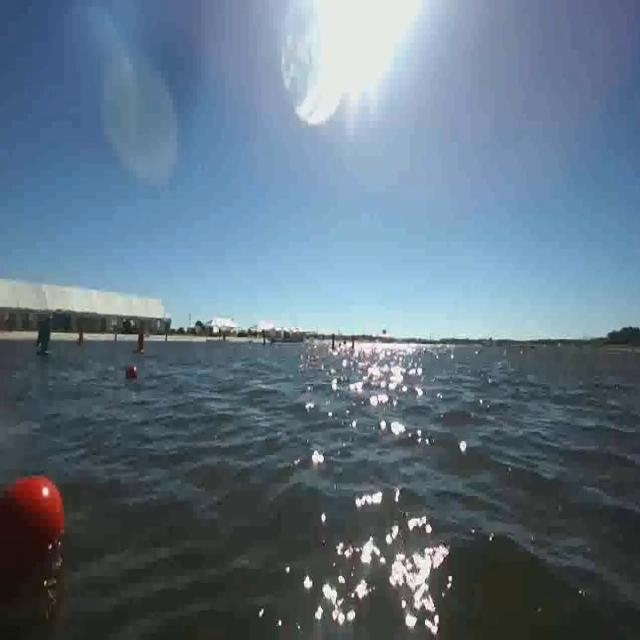green-column-buoy: (36, 325, 52, 356)
red-buoy: (1, 475, 66, 569), (127, 362, 139, 381)
red-column-buoy: (136, 326, 147, 356), (76, 323, 86, 348)
